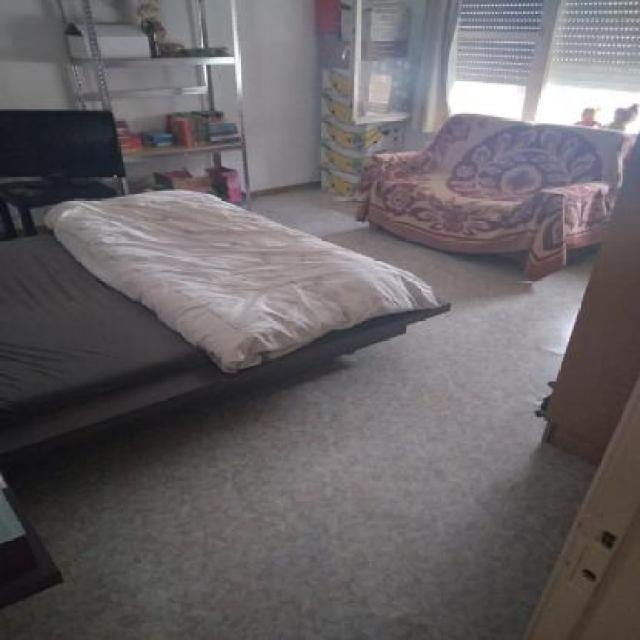Floor: (0, 188, 599, 640)
